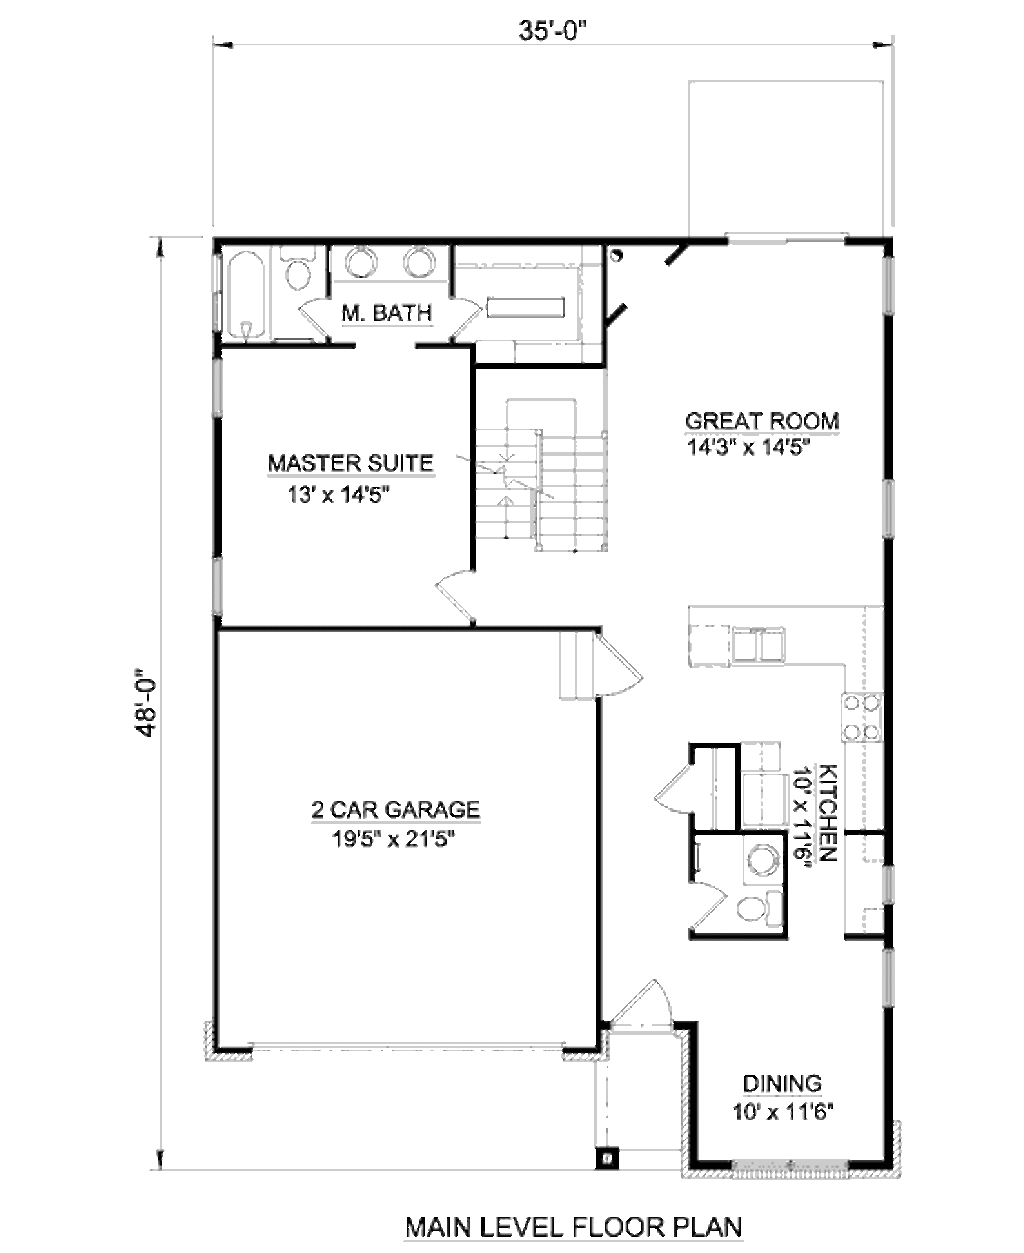door: (606, 977, 681, 1035), (649, 758, 710, 827), (428, 560, 487, 629), (589, 643, 651, 704), (687, 877, 731, 945), (439, 291, 483, 351), (291, 295, 339, 339)
large_sink: (278, 237, 331, 287), (729, 885, 785, 931)
small_sink: (328, 241, 449, 287), (739, 835, 778, 879)
stairs: (470, 374, 612, 564)
tub: (222, 245, 272, 333)
twin_sink: (733, 608, 783, 660)
window: (724, 1152, 856, 1181), (876, 249, 906, 318), (881, 481, 899, 551), (212, 558, 230, 620)
